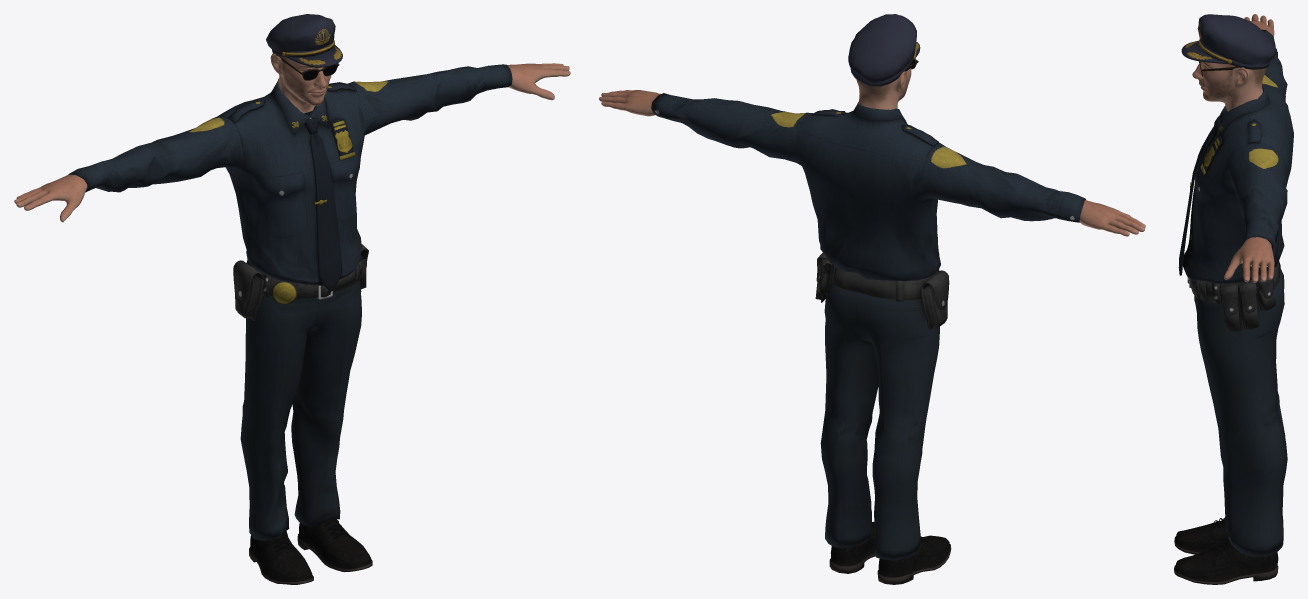
The model's file is character_type_male_police.glb.
The picture shows the model from 3 angles, left to right: view 1: azimuth 30°, elevation 25°; view 2: azimuth 150°, elevation 25°; view 3: azimuth 270°, elevation 25°; orthographic projection.
Parts seen in each view (by area): view 1: Object_4, Object_2, Object_7, Object_5, Object_6; view 2: Object_4, Object_2, Object_6, Object_7, Object_5; view 3: Object_2, Object_4, Object_5, Object_7, Object_6.
Part boxes in pixels (x1,y1,x2,y2): Object_4: [68, 64, 512, 291]; Object_2: [233, 244, 368, 540]; Object_7: [14, 53, 570, 222]; Object_5: [249, 519, 372, 584]; Object_6: [266, 14, 342, 67]; Object_4: [651, 93, 1085, 280]; Object_2: [815, 253, 949, 560]; Object_6: [848, 14, 920, 86]; Object_7: [599, 65, 1145, 236]; Object_5: [829, 521, 951, 584]; Object_2: [1187, 261, 1287, 556]; Object_4: [1178, 29, 1293, 283]; Object_5: [1174, 517, 1278, 584]; Object_7: [1192, 14, 1274, 282]; Object_6: [1181, 14, 1277, 69].
Size of the model in its own units: 194 by 184 by 36.61.
6 materials, 6 textured.
